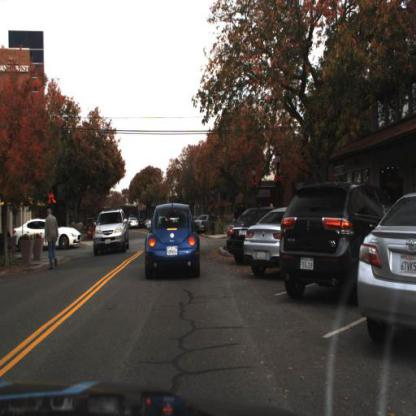car: (280, 181, 382, 300), (355, 192, 416, 348), (143, 199, 204, 282), (245, 205, 292, 278), (11, 217, 82, 253), (226, 205, 267, 264), (92, 209, 132, 254)
pedestrian: (44, 206, 65, 272)
